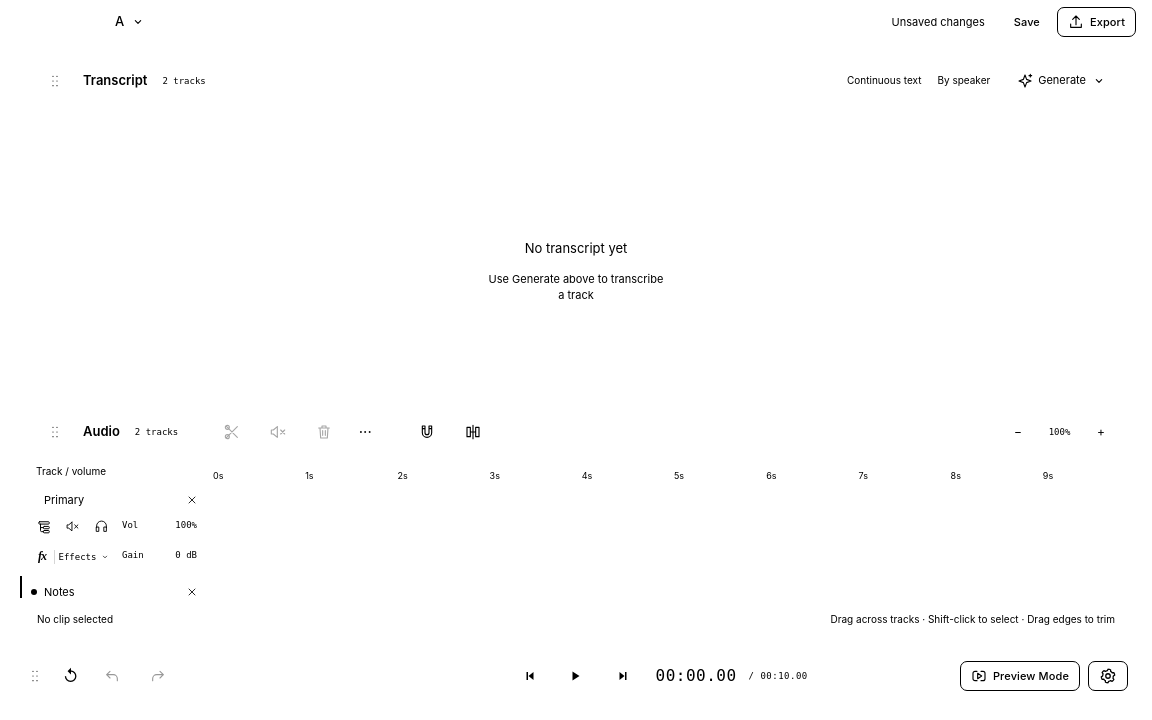
Scenario: App transcription job identity › submits dirty path-free opens and applies an advanced stayed rollback session
The image size is (1152, 720).
Click the button "A": (131, 22) [100,6,161,38]
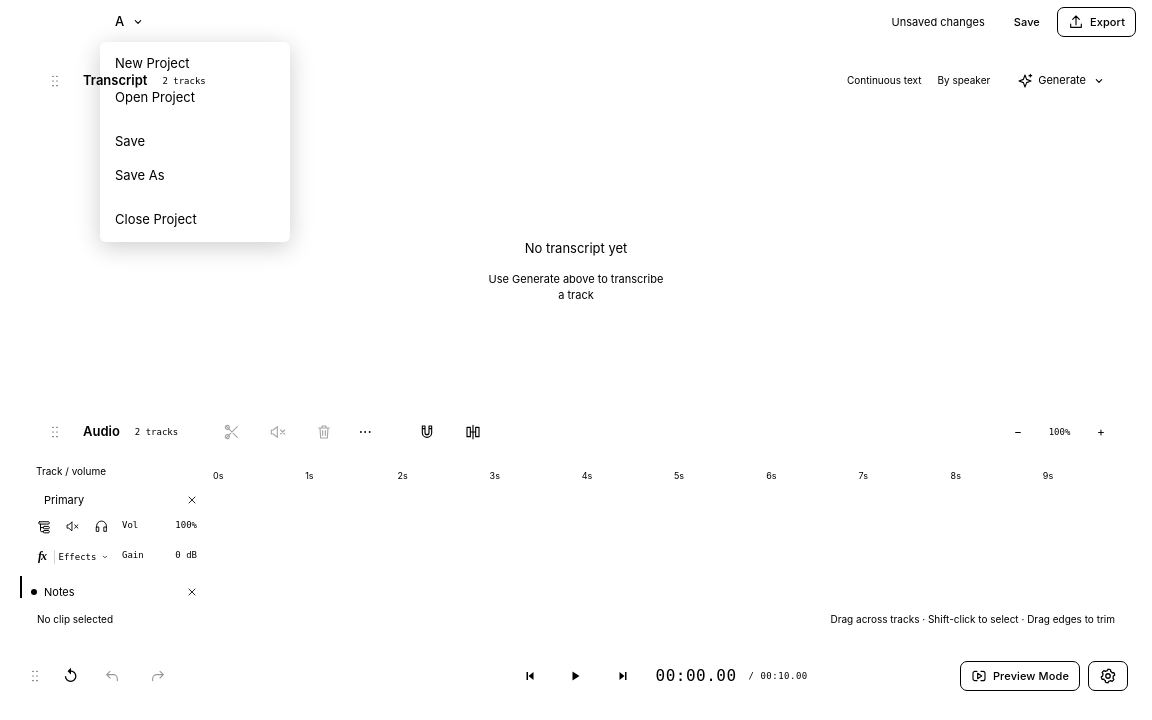
Click the menu item "Open Project": (195, 97) [105,80,285,114]
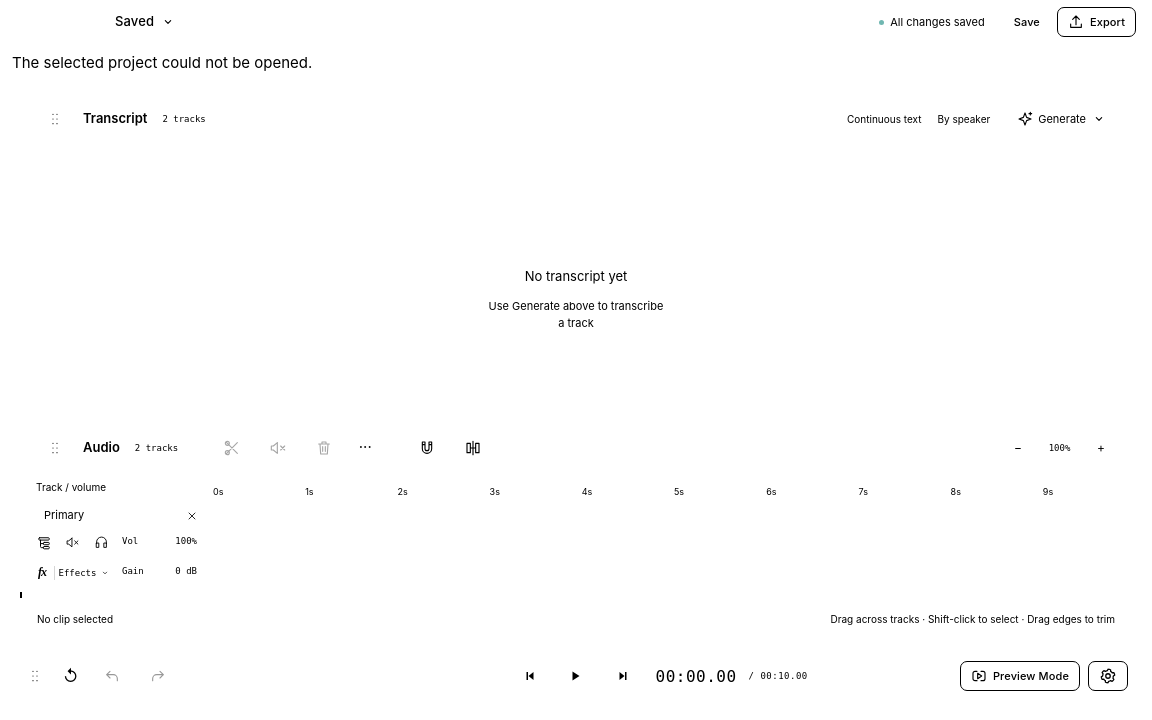
Result: the message "The selected project could not be opened." is shown at [12,53,312,72]
